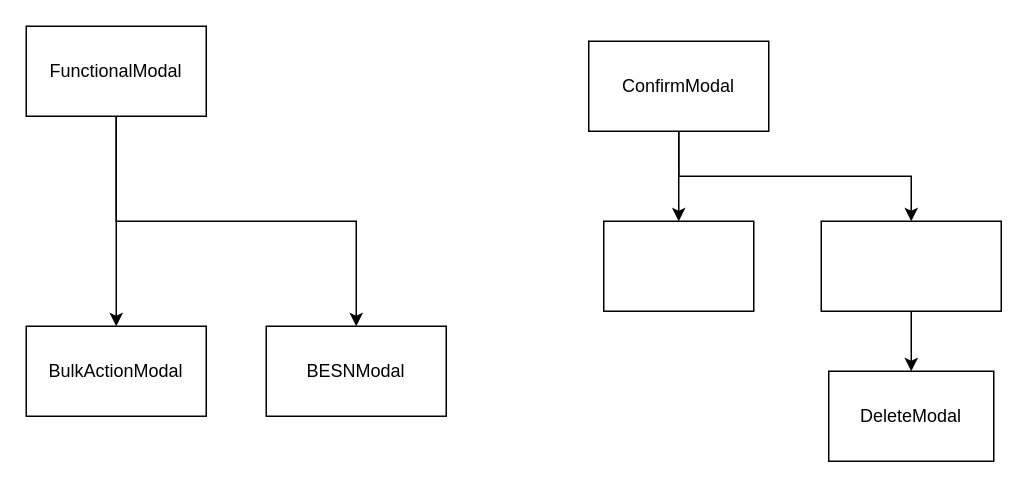
This 1028x488 diagram has some shape labels left out. The centre of each missing label's shape, as x and y in pixels:
"ConfirmPane" belongs at pixel 910 265.
"PromptModal" belongs at pixel 678 265.
